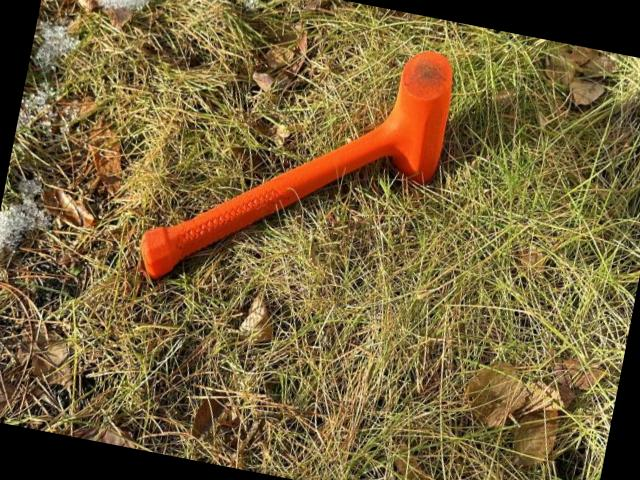hammer: (132, 3, 460, 324)
